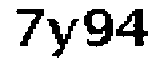4: (115, 7, 151, 52)
7: (11, 6, 45, 50)
9: (83, 6, 115, 51)
y: (46, 15, 79, 58)
